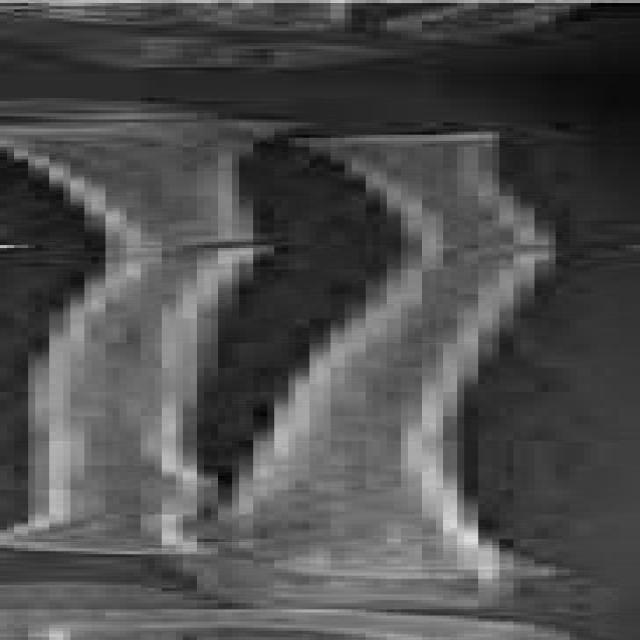Greenstick: (83, 219, 588, 297)
